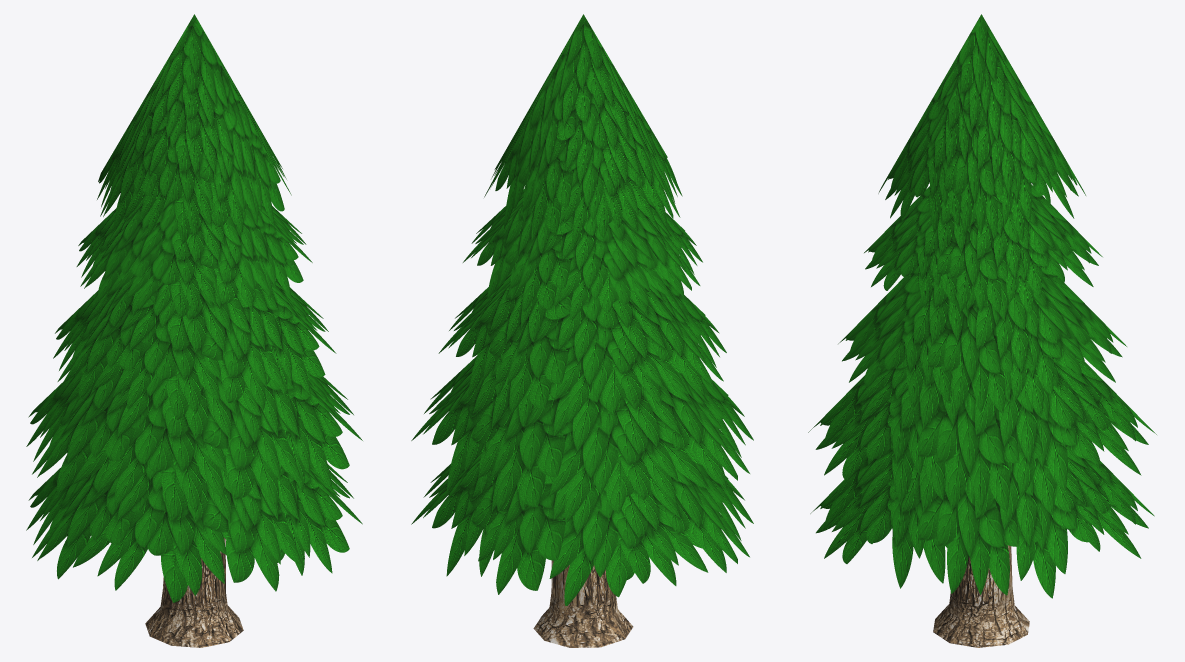
Rendered from Pinheiro.fbx.
3 renders of one model, left to right at view 1: azimuth 30°, elevation 25°; view 2: azimuth 150°, elevation 25°; view 3: azimuth 270°, elevation 25°, orthographic.
Parts seen in each view (by area): view 1: Pinheiro; view 2: Pinheiro; view 3: Pinheiro.
Boxes of the visible parts, <box> form: Pinheiro: <box>26,14,362,647</box>; Pinheiro: <box>411,14,753,647</box>; Pinheiro: <box>808,14,1156,647</box>.
Size of the model in its own units: 5.05 by 9.03 by 5.05.
